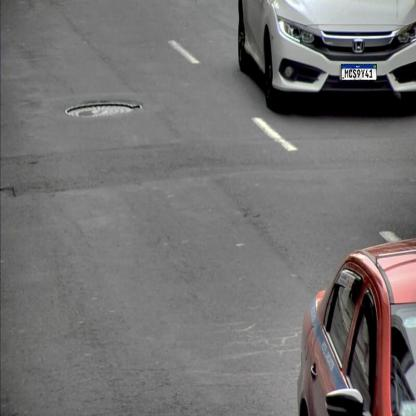PlacaM: (341, 64, 377, 80)
